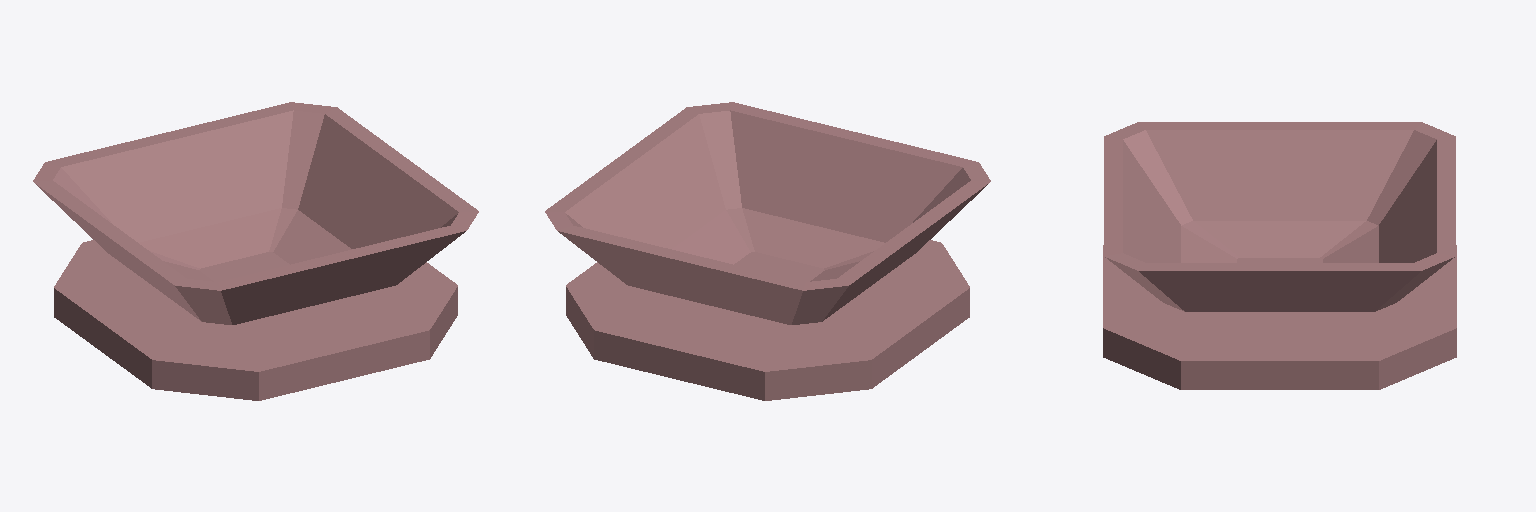
Rendered from Flame_Chalice.obj.
The picture shows the model from 3 angles: view 1: azimuth 30°, elevation 25°; view 2: azimuth 150°, elevation 25°; view 3: azimuth 270°, elevation 25°; orthographic projection.
Parts seen in each view (by area): view 1: Cube.003; view 2: Cube.003; view 3: Cube.003.
Part boxes in pixels (x1,y1,x2,y2): Cube.003: (33, 102, 478, 400); Cube.003: (545, 102, 990, 400); Cube.003: (1103, 122, 1456, 389).
Size of the model in its own units: 2.71 by 1.01 by 2.71.